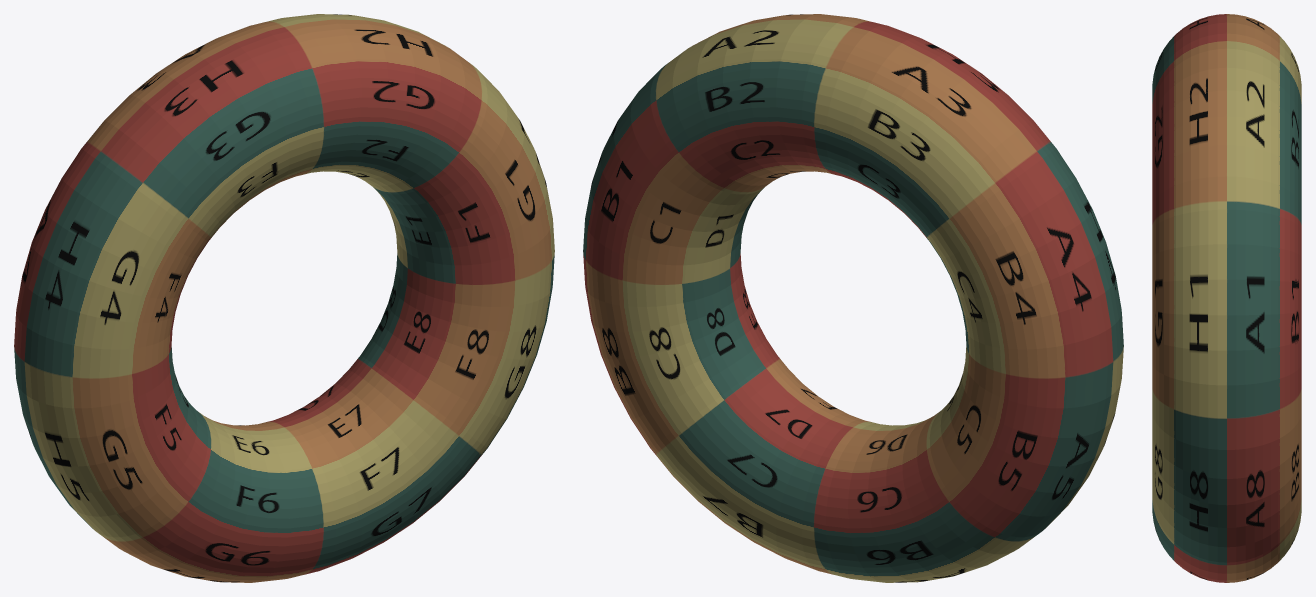
The model's file is texture_torus_R26_r29.glb.
The picture shows the model from 3 angles, left to right: view 1: azimuth 30°, elevation 25°; view 2: azimuth 150°, elevation 25°; view 3: azimuth 270°, elevation 25°; orthographic projection. The views are drawn at different scales.
Parts seen in each view (by area): view 1: world; view 2: world; view 3: world.
Part boxes in pixels (x1,y1,x2,y2): world: (14, 14, 554, 582); world: (583, 14, 1123, 582); world: (1152, 14, 1301, 582).
Bounding box in the file's own units: 37.07 × 36.99 × 9.71.
Materials: 1 (1 with a texture image).
